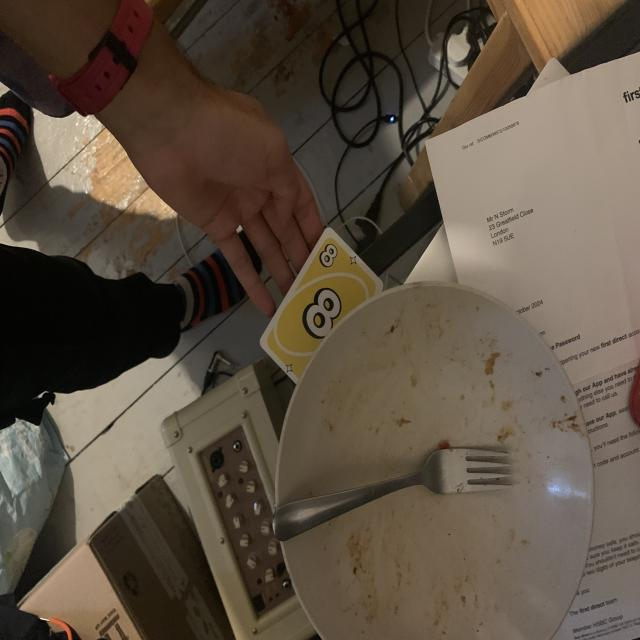lyellow-8: (316, 240, 341, 272)
